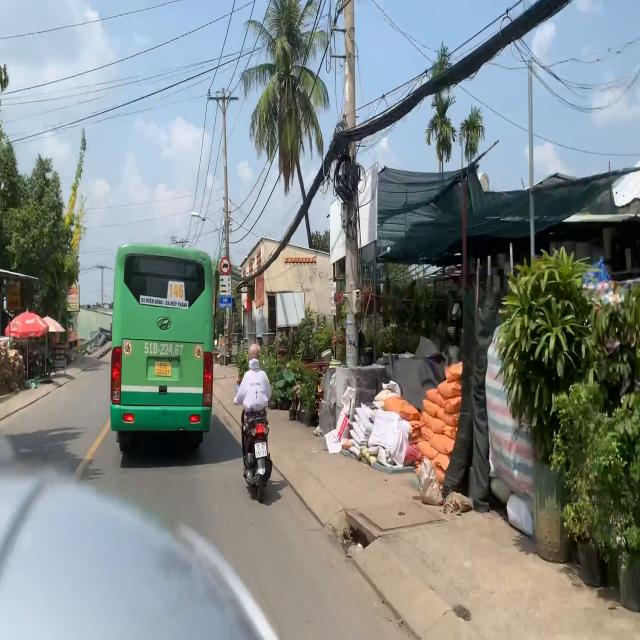Cam con lai: (220, 257, 231, 275)
